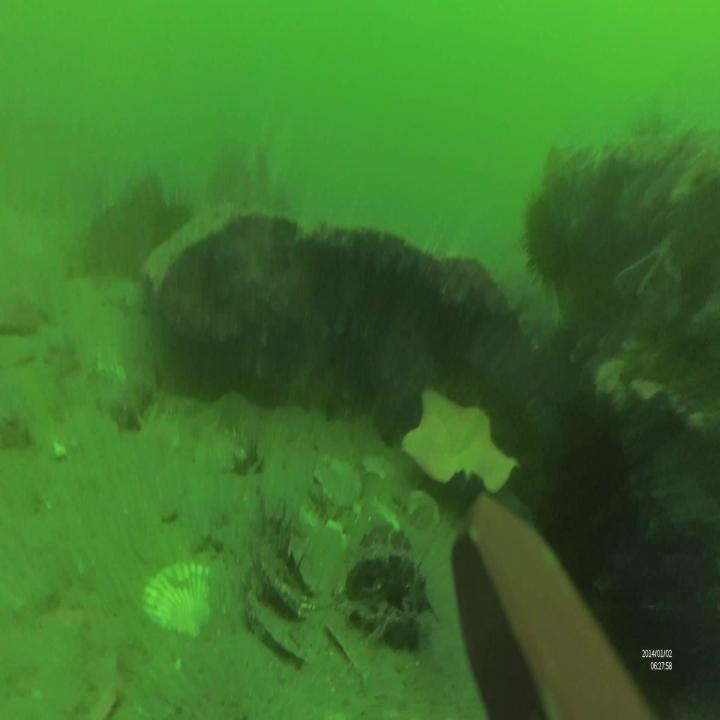echinus: (520, 194, 574, 277)
scallop: (144, 564, 216, 639)
